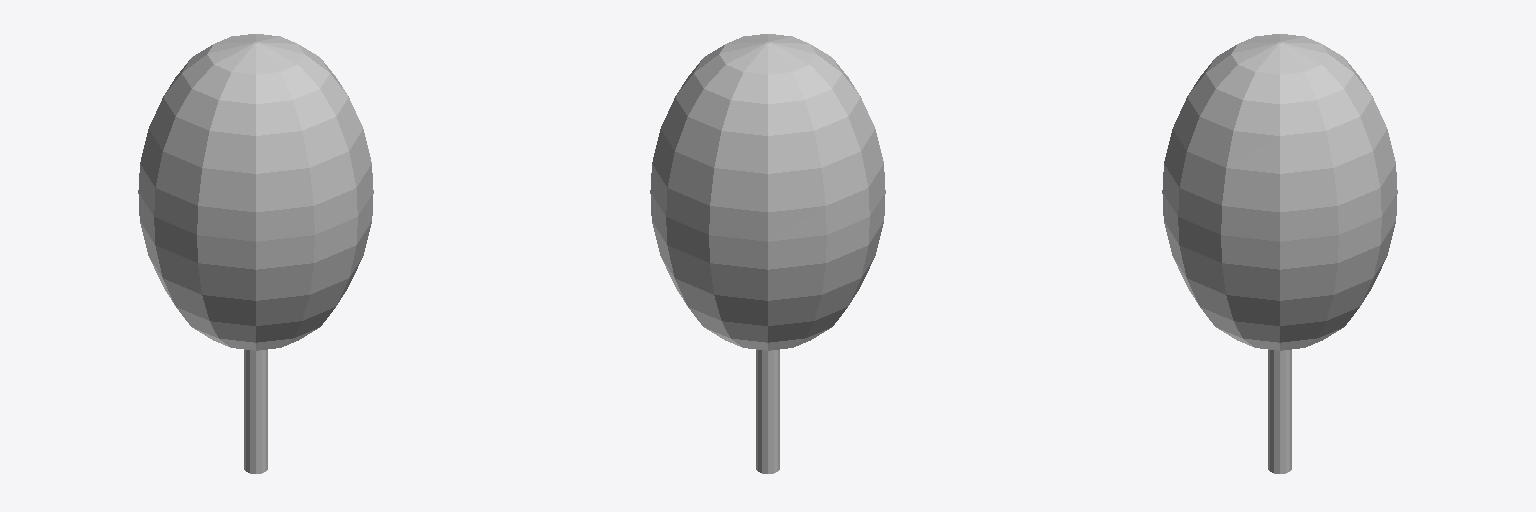
File: Generic_Dead_Tree_Analytical_0.obj
3 renders of one model, left to right at view 1: azimuth 30°, elevation 25°; view 2: azimuth 150°, elevation 25°; view 3: azimuth 270°, elevation 25°, orthographic.
Parts seen in each view (by area): view 1: AnalyticalTrunk; view 2: AnalyticalTrunk; view 3: AnalyticalTrunk.
Part boxes in pixels (x1,y1,x2,y2): AnalyticalTrunk: (138,34,373,473); AnalyticalTrunk: (650,34,885,473); AnalyticalTrunk: (1162,34,1397,473).
Size of the model in its own units: 10 by 20 by 10.